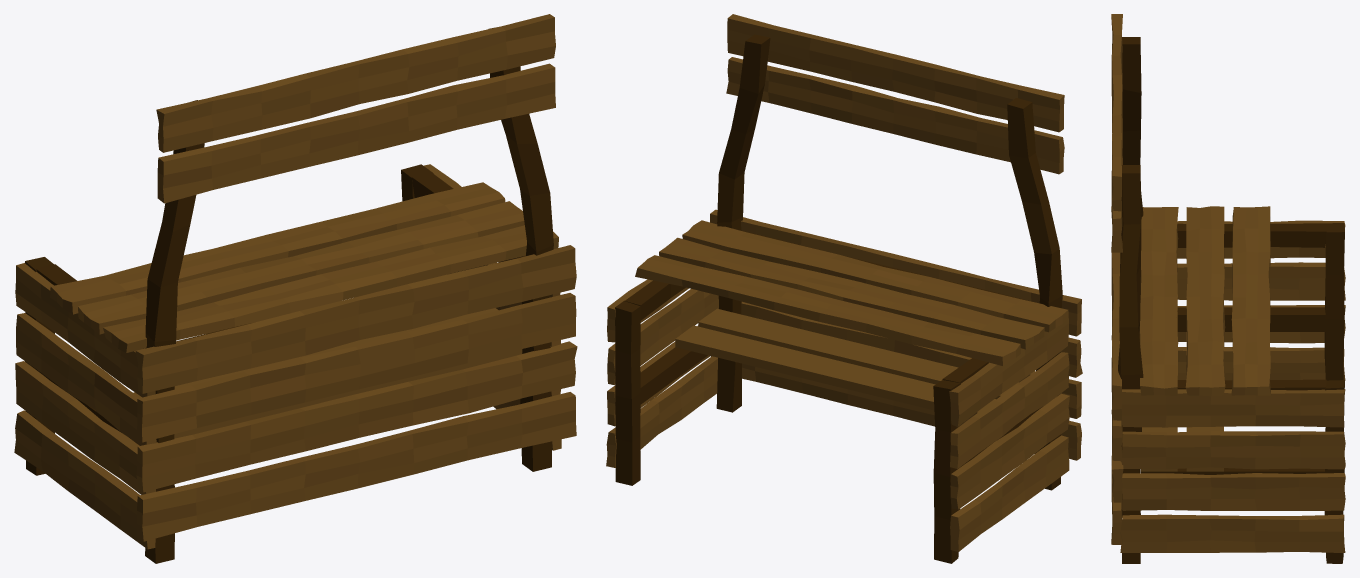
The model's file is stall.glb.
The picture shows the model from 3 angles, left to right: view 1: azimuth 30°, elevation 25°; view 2: azimuth 150°, elevation 25°; view 3: azimuth 270°, elevation 25°; orthographic projection. The views are drawn at different scales.
Parts seen in each view (by area): view 1: Cube.004, Cube.002, Cube.005, Cube.003, Cube.010, Cube.021, Cube.007, Cube.008, Cube.009, Cube, Cube.019, Cube.013 (+6 smaller); view 2: Cube, Cube.021, Cube.010, Cube.009, Cube.007, Cube.008, Cube.019, Cube.013, Cube.011, Cube.018, Cube.014, Cube.017 (+6 smaller); view 3: Cube.013, Cube.019, Cube.014, Cube.012, Cube, Cube.009, Cube.008, Cube.007, Cube.011, Cube.016, Cube.006, Cube.021 (+7 smaller).
Part boxes in pixels (x1=…): Cube.004: x1=136, y1=293, x2=576, y2=442; Cube.002: x1=137, y1=392, x2=576, y2=541; Cube.005: x1=135, y1=245, x2=576, y2=393; Cube.003: x1=136, y1=341, x2=577, y2=492; Cube.010: x1=157, y1=63, x2=555, y2=203; Cube.021: x1=156, y1=14, x2=555, y2=152; Cube.007: x1=103, y1=225, x2=558, y2=352; Cube.008: x1=78, y1=201, x2=524, y2=334; Cube.009: x1=50, y1=182, x2=505, y2=314; Cube: x1=145, y1=27, x2=553, y2=563; Cube.019: x1=14, y1=399, x2=561, y2=549; Cube.013: x1=16, y1=262, x2=560, y2=445; Cube: x1=716, y1=34, x2=1062, y2=490; Cube.021: x1=727, y1=14, x2=1064, y2=132; Cube.010: x1=726, y1=57, x2=1064, y2=174; Cube.009: x1=635, y1=255, x2=1020, y2=365; Cube.007: x1=682, y1=220, x2=1068, y2=332; Cube.008: x1=659, y1=237, x2=1044, y2=349; Cube.019: x1=606, y1=356, x2=1069, y2=551; Cube.013: x1=607, y1=288, x2=1069, y2=468; Cube.011: x1=615, y1=300, x2=960, y2=563; Cube.018: x1=675, y1=325, x2=1028, y2=422; Cube.014: x1=607, y1=325, x2=1069, y2=509; Cube.017: x1=698, y1=308, x2=1018, y2=399; Cube.013: x1=1121, y1=262, x2=1345, y2=469; Cube.019: x1=1120, y1=347, x2=1345, y2=552; Cube.014: x1=1121, y1=305, x2=1345, y2=510; Cube.012: x1=1121, y1=220, x2=1345, y2=427; Cube: x1=1118, y1=37, x2=1143, y2=563; Cube.009: x1=1231, y1=206, x2=1271, y2=395; Cube.008: x1=1185, y1=206, x2=1225, y2=396; Cube.007: x1=1139, y1=207, x2=1178, y2=396; Cube.011: x1=1324, y1=223, x2=1344, y2=563; Cube.016: x1=1140, y1=307, x2=1325, y2=474; Cube.006: x1=1140, y1=223, x2=1326, y2=390; Cube.021: x1=1111, y1=14, x2=1122, y2=211.
Bounding box in the file's own units: 2.31 × 2.31 × 1.27.
